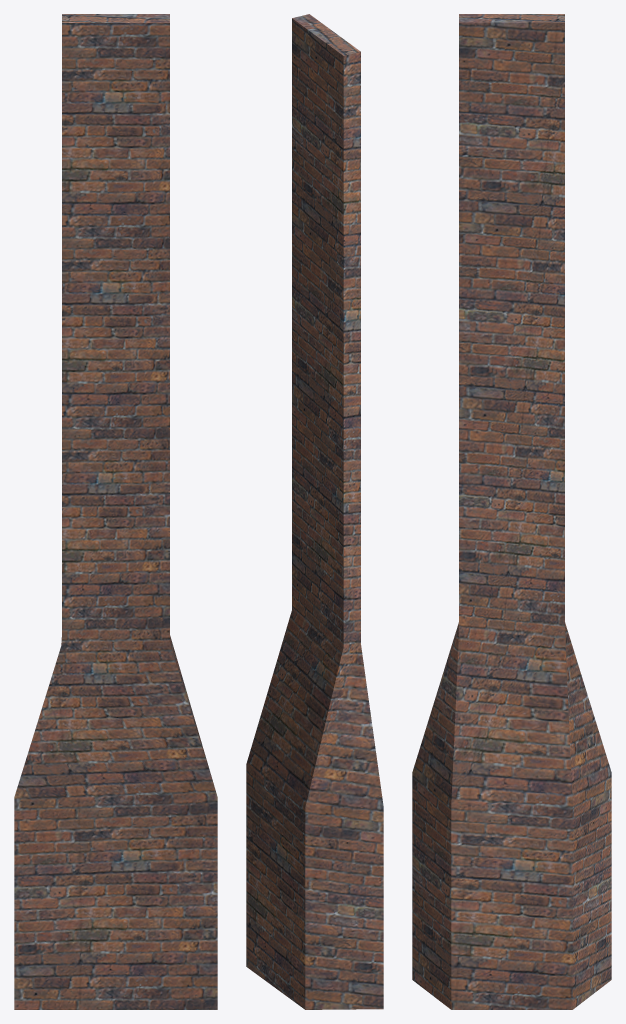
Rendered from Chimney 1.fbx.
The picture shows the model from 3 angles, left to right: view 1: azimuth 90°, elevation 25°; view 2: azimuth 210°, elevation 25°; view 3: azimuth 270°, elevation 25°; orthographic projection. The views are drawn at different scales.
Visible parts, largest first — view 1: pCube1; view 2: pCube1; view 3: pCube1.
Part boxes in pixels (x1,y1,x2,y2): pCube1: [14, 14, 217, 1009]; pCube1: [246, 14, 383, 1009]; pCube1: [412, 14, 611, 1009].
Size of the model in its own units: 0.5801 by 8.8 by 1.64.
